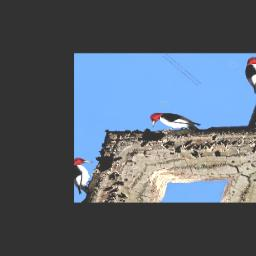Woodpecker: (138, 97, 211, 150)
